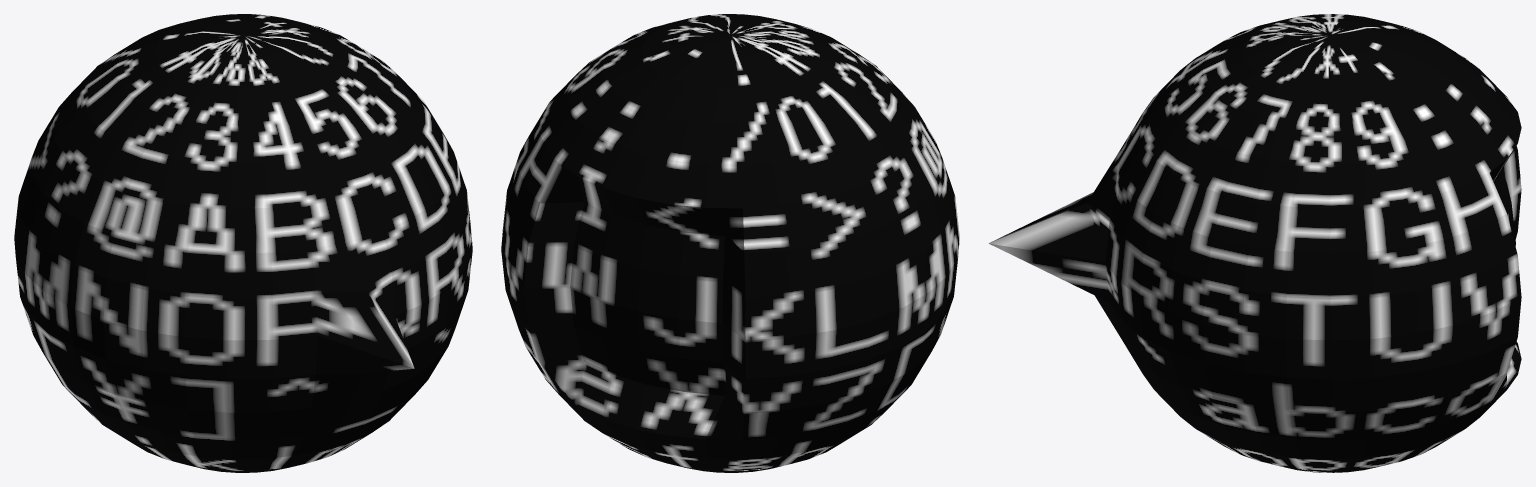
Rendered from Player.obj.
3 renders of one model, left to right at view 1: azimuth 30°, elevation 25°; view 2: azimuth 150°, elevation 25°; view 3: azimuth 270°, elevation 25°, orthographic.
Visible parts, largest first — view 1: 球; view 2: 球; view 3: 球.
Boxes of the visible parts, x1,y1,x2,y2 form: 球: [14, 14, 472, 472]; 球: [501, 14, 959, 472]; 球: [988, 14, 1521, 472].
Size of the model in its own units: 2 by 2 by 2.32.
